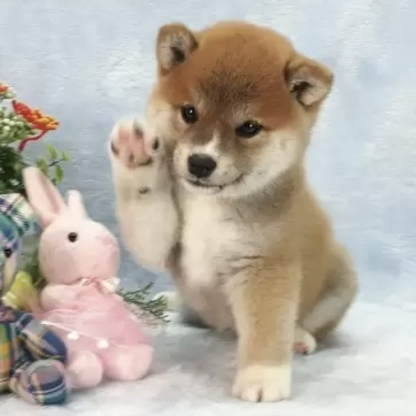shiba: (103, 14, 365, 408)
